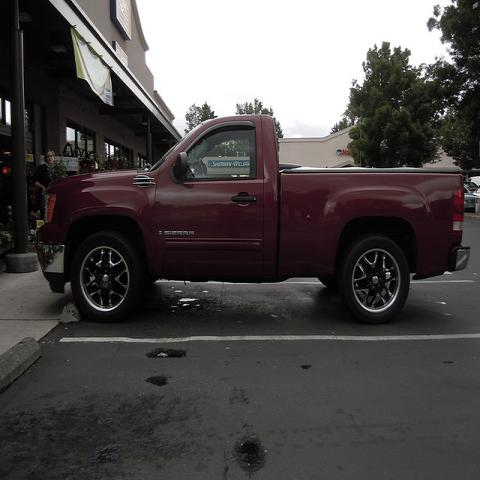car: (464, 183, 480, 213), (465, 182, 478, 192)
truck: (36, 114, 474, 326)
